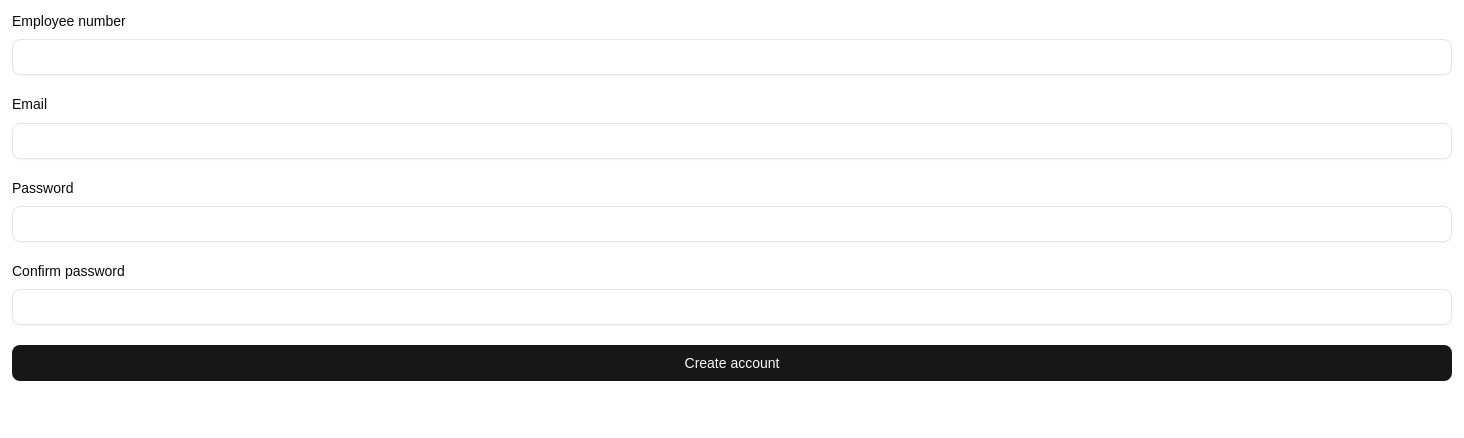
RegistrationForm › shows a generic throttling message on a 429 response
This screenshot has width=1464, height=438.
Type "EMP001" into the field labelled "Employee number" at (732, 57), box x1=12 y1=39 x2=1452 y2=75
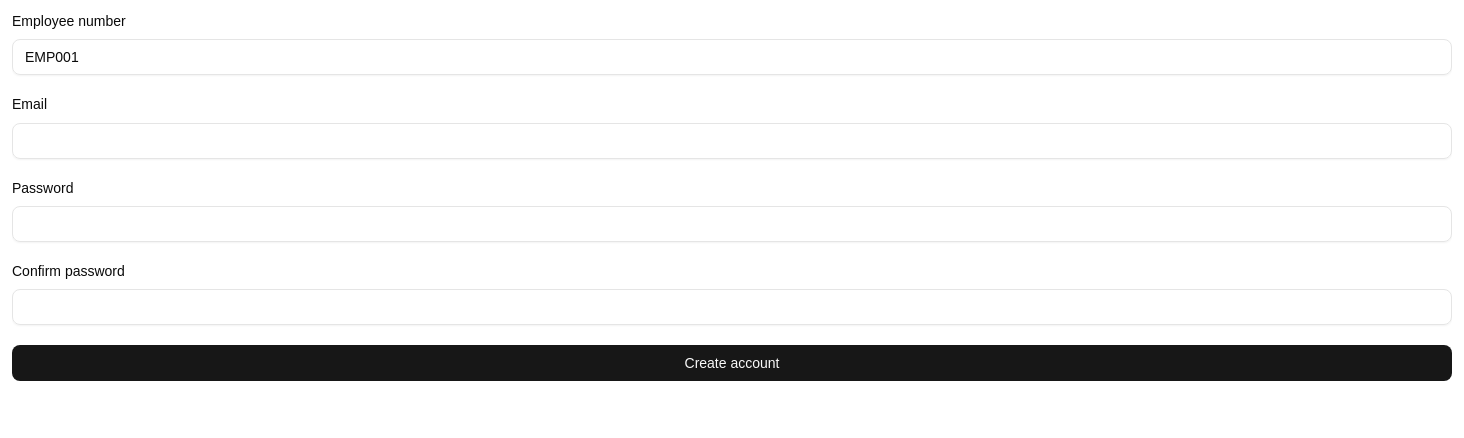
Type "a@b.com" into the field labelled "Email" at (732, 140), box x1=12 y1=122 x2=1452 y2=158
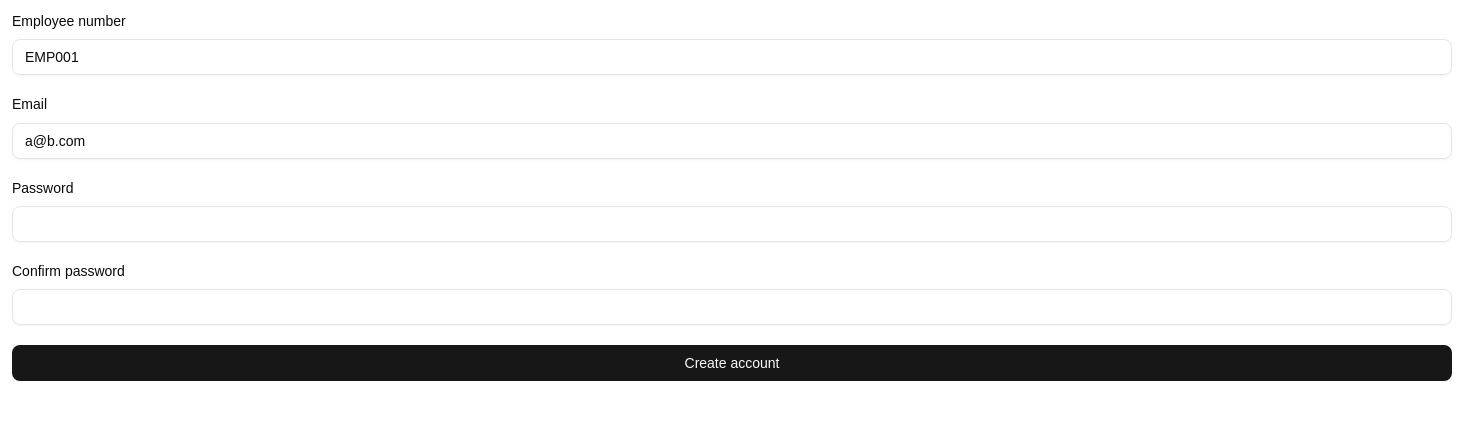
Type "password1" into the password field labelled "Password" at (732, 224), box x1=12 y1=206 x2=1452 y2=242
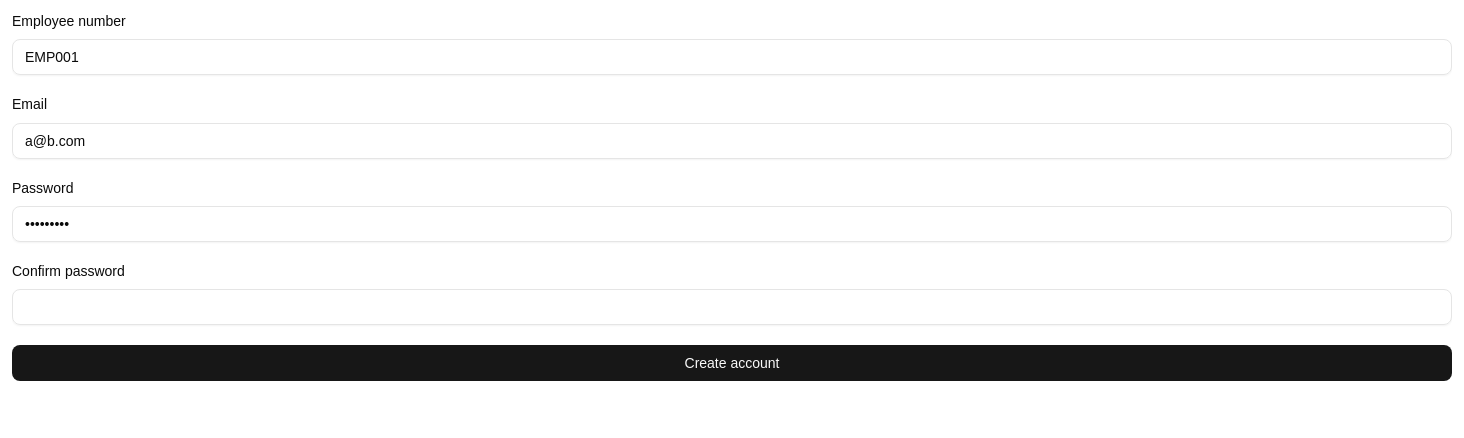
Type "password1" into the password field labelled "Confirm password" at (732, 307), box x1=12 y1=289 x2=1452 y2=325
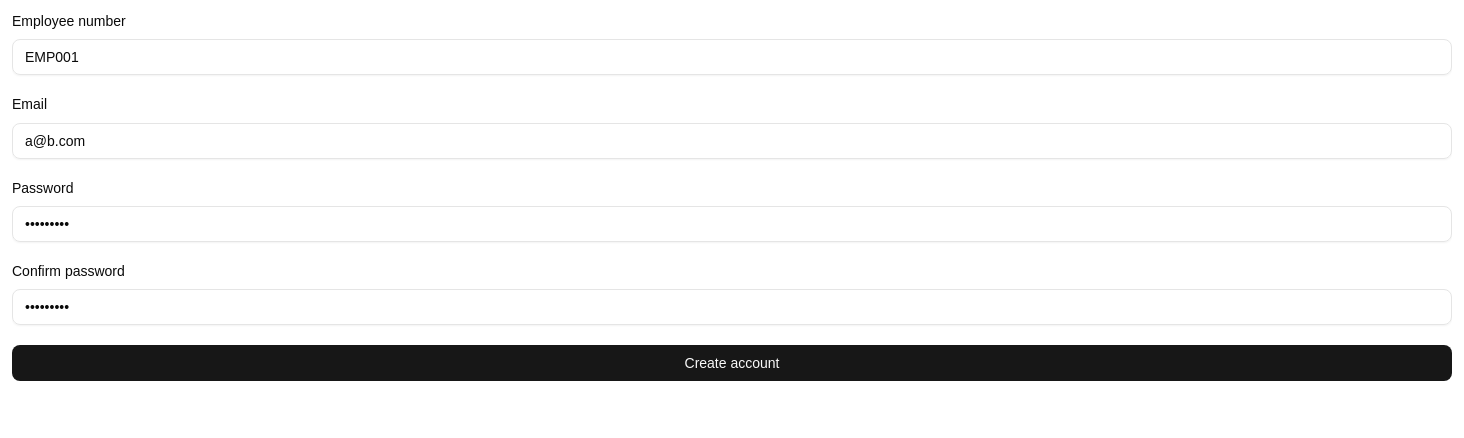
Click the button "Create account" at (732, 363), box x1=12 y1=345 x2=1452 y2=381
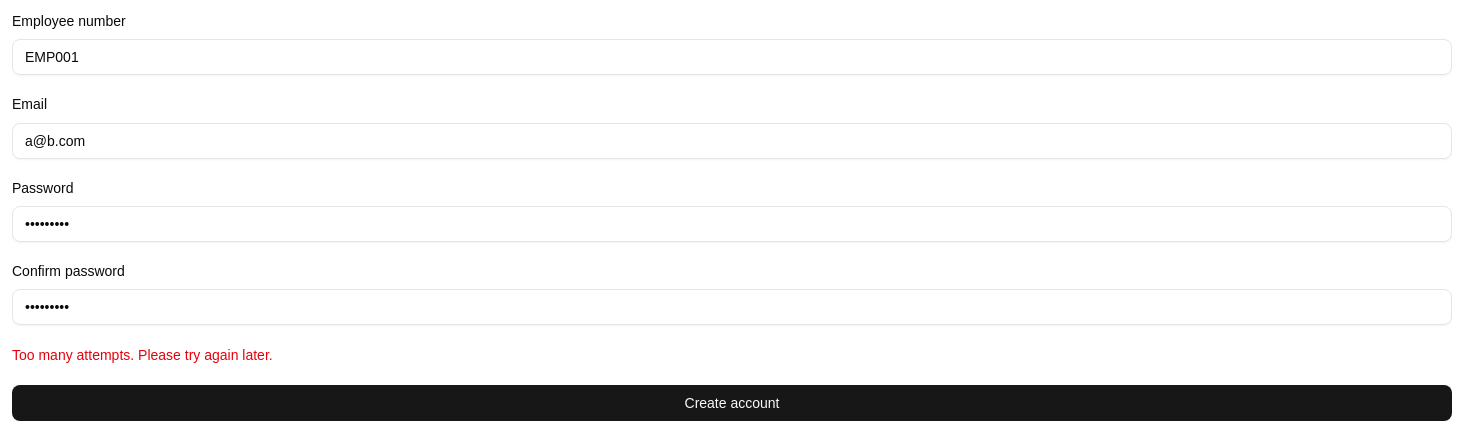
Expected: the message shows "Too many attempts", x1=12 y1=347 x2=273 y2=363
